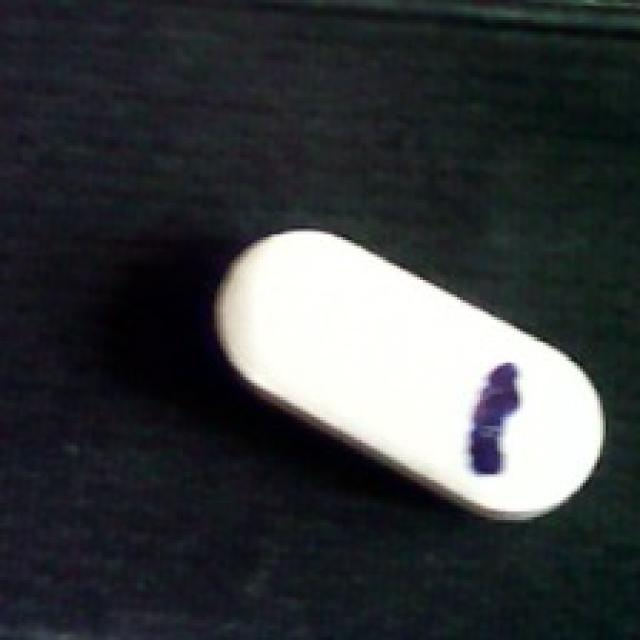defected: (200, 226, 611, 528)
